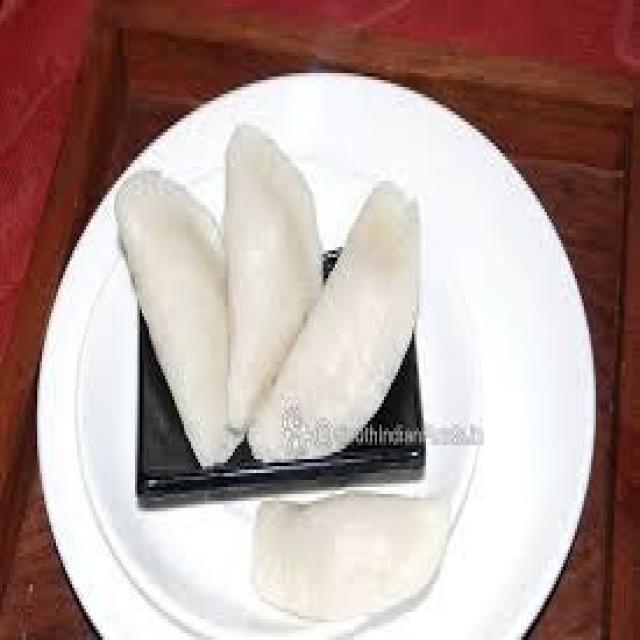poorna kolukattai: (99, 122, 449, 488)
